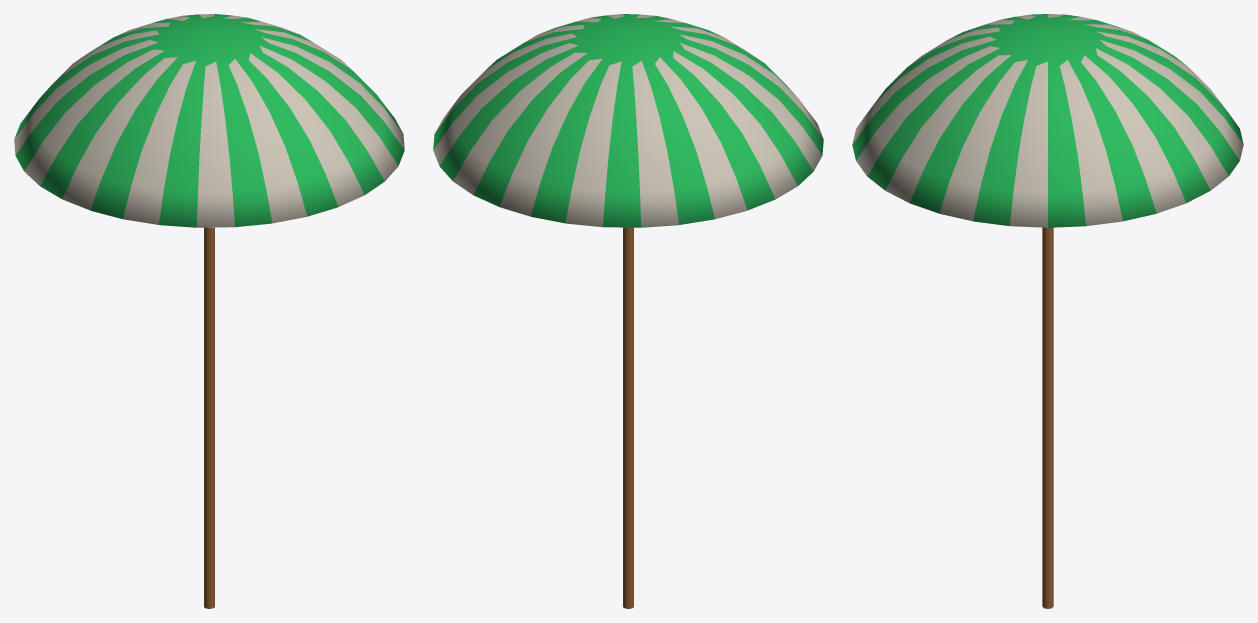
Rendered from UmbrellaGreen.fbx.
3 renders of one model, left to right at view 1: azimuth 30°, elevation 25°; view 2: azimuth 150°, elevation 25°; view 3: azimuth 270°, elevation 25°, orthographic.
Parts seen in each view (by area): view 1: zoldes; view 2: zoldes; view 3: zoldes.
Boxes of the visible parts, x1,y1,x2,y2 form: zoldes: [14, 14, 404, 608]; zoldes: [433, 14, 823, 608]; zoldes: [852, 14, 1243, 608].
Size of the model in its own units: 1.71 by 2.77 by 1.71.
1 material, 1 textured.
